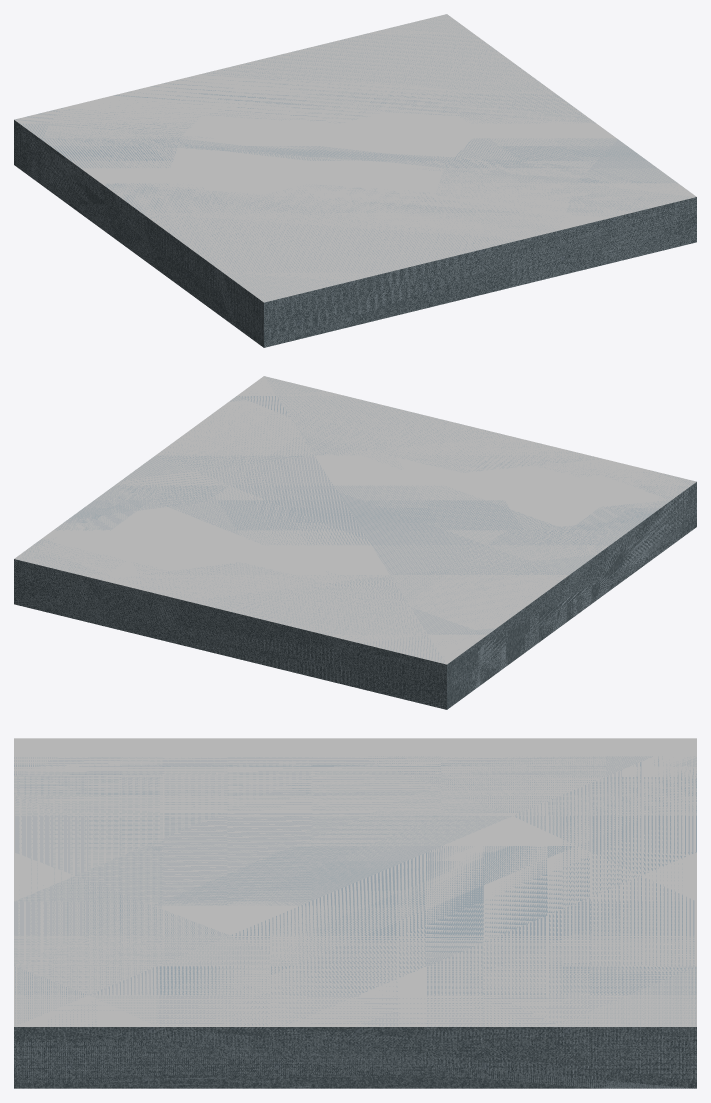
The model's file is MetalFloor.dae.
3 views of the same model, one above another, from view 1: azimuth 30°, elevation 25°; view 2: azimuth 150°, elevation 25°; view 3: azimuth 270°, elevation 25° (orthographic). The views are drawn at different scales.
Parts seen in each view (by area): view 1: SketchUp (×2); view 2: SketchUp (×2); view 3: SketchUp (×2).
Boxes of the visible parts, x1,y1,x2,y2 form: SketchUp (×2): (14, 14, 696, 347); SketchUp (×2): (14, 376, 696, 709); SketchUp (×2): (14, 738, 696, 1088).
Bounding box in the file's own units: 39.37 × 39.37 × 3.94.
